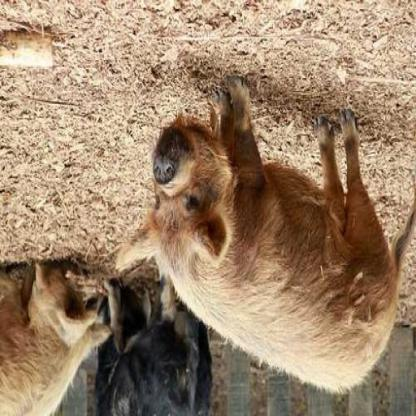boar: (137, 78, 415, 374), (0, 240, 120, 416), (57, 303, 211, 416)
